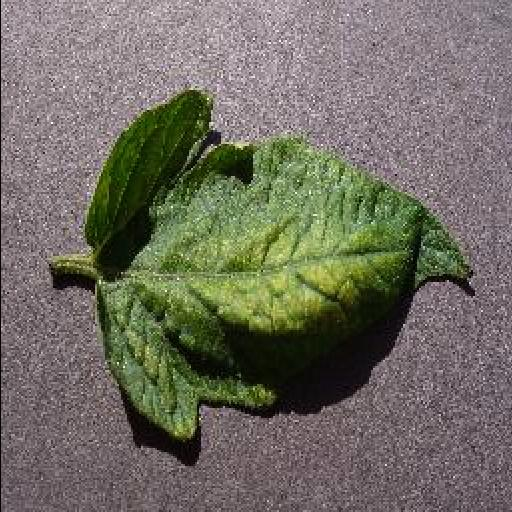disease_tomato: (85, 92, 475, 438)
